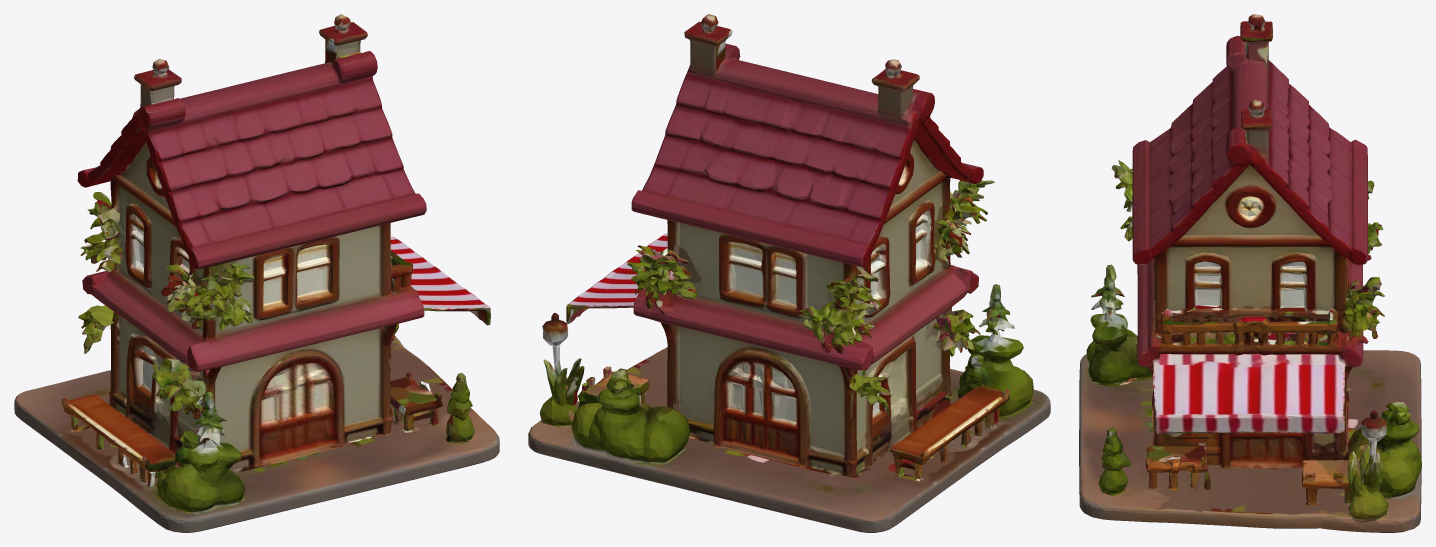
File: onyx_botanical_cafe.glb
The picture shows the model from 3 angles, left to right: view 1: azimuth 30°, elevation 25°; view 2: azimuth 150°, elevation 25°; view 3: azimuth 270°, elevation 25°; orthographic projection. The views are drawn at different scales.
Visible parts, largest first — view 1: tmp7gyr3dto.ply; view 2: tmp7gyr3dto.ply; view 3: tmp7gyr3dto.ply.
Part boxes in pixels (x1,y1,x2,y2): tmp7gyr3dto.ply: [14, 14, 499, 532]; tmp7gyr3dto.ply: [528, 14, 1050, 532]; tmp7gyr3dto.ply: [1079, 14, 1421, 532].
Bounding box in the file's own units: 1.94 × 1.99 × 1.62.
1 material, 1 textured.
